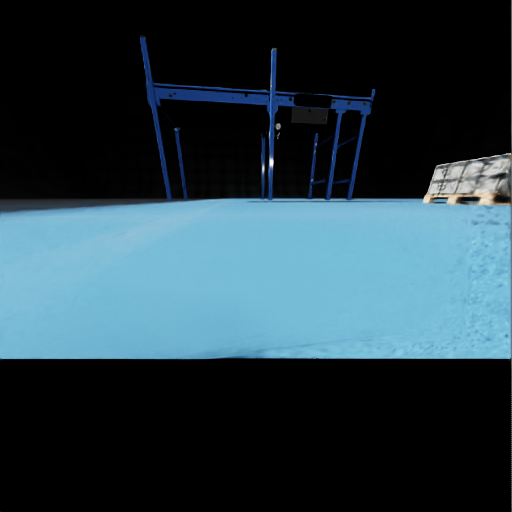transportation_area: (457, 175, 511, 193), (471, 157, 487, 196), (444, 168, 447, 177), (437, 188, 440, 196), (281, 99, 282, 100)
